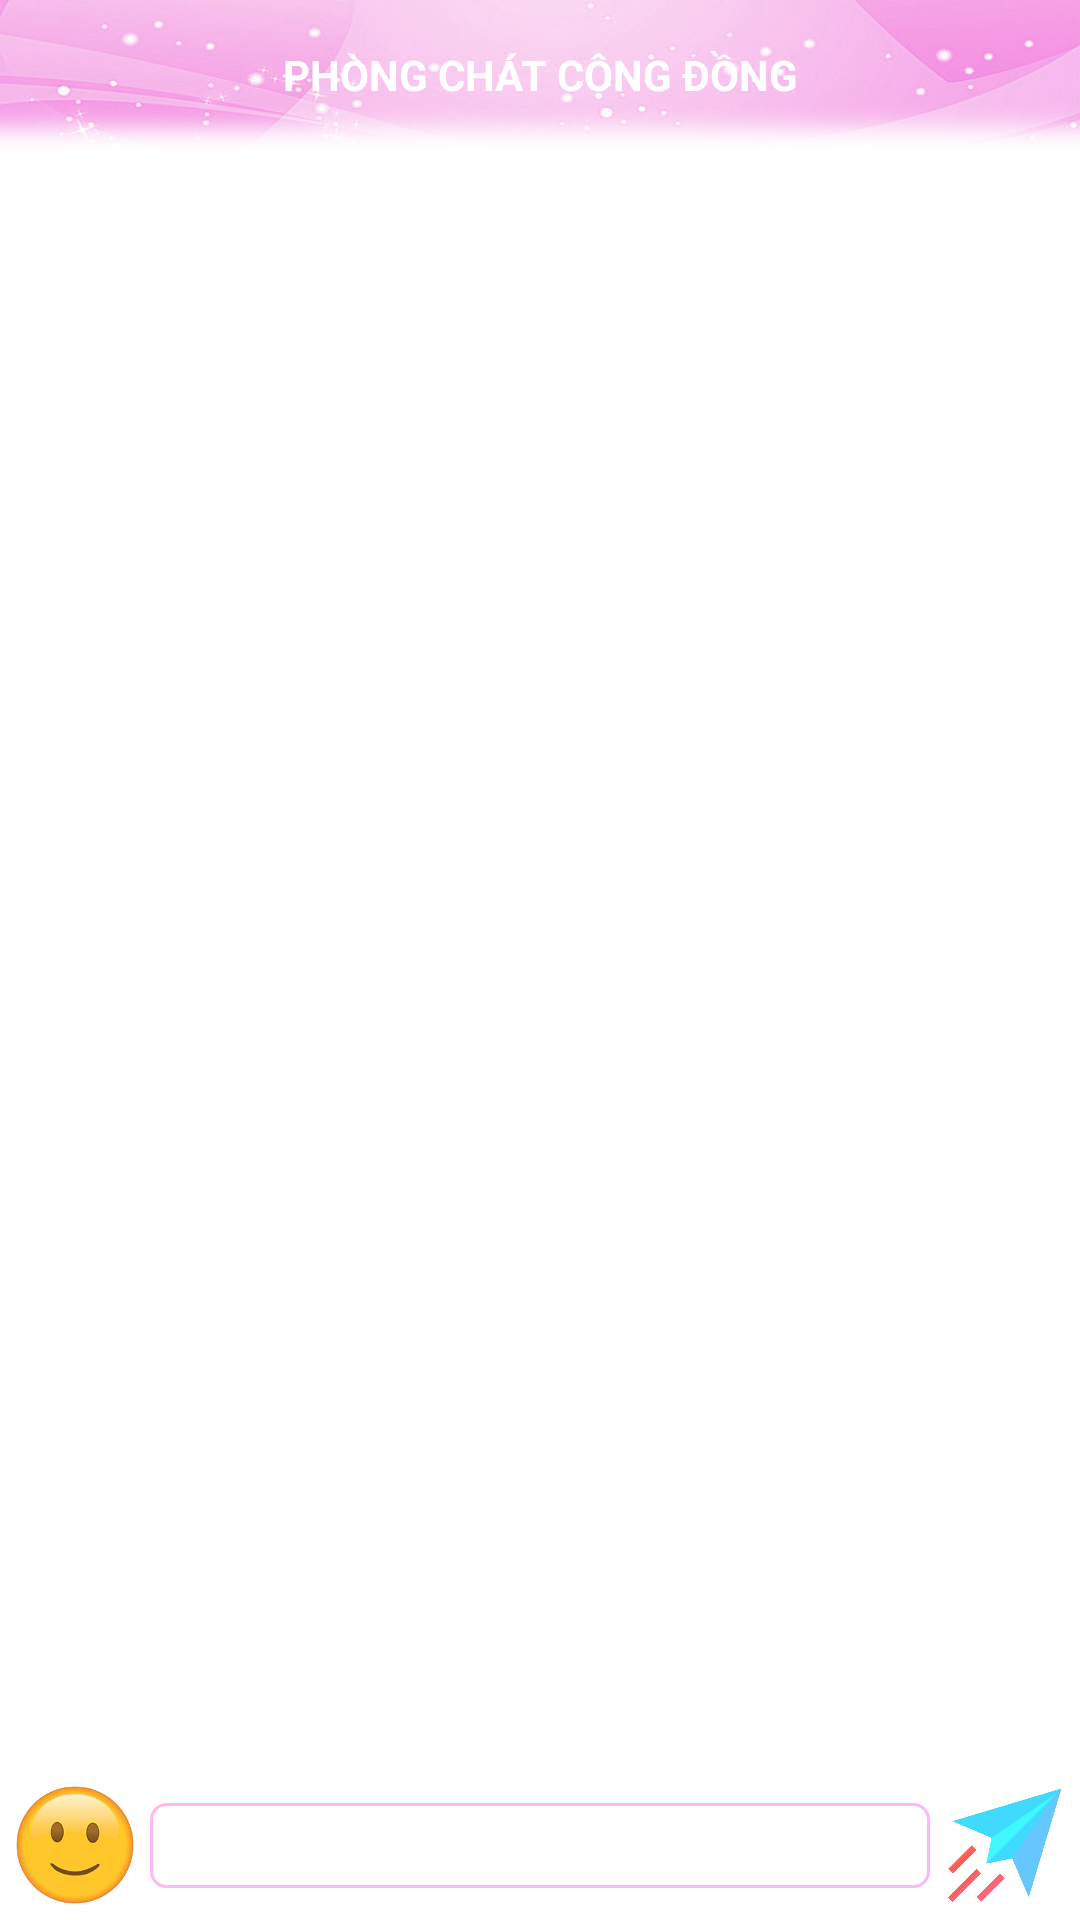

Screen size 1080×1920. Icon name, then its box in pixels as (x1, y1, x2, y2):
emoji: (16, 1786, 134, 1904)
guitinhan nhantin: (948, 1788, 1062, 1902)
